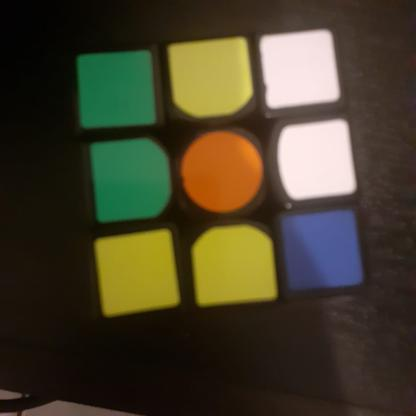book: (51, 22, 390, 322)
